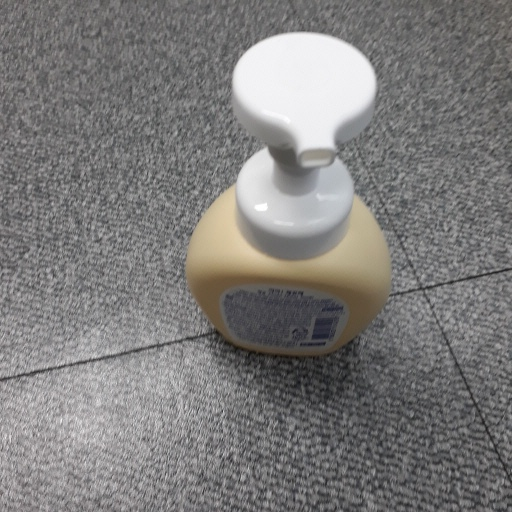Plastic_3: (185, 30, 391, 362)
